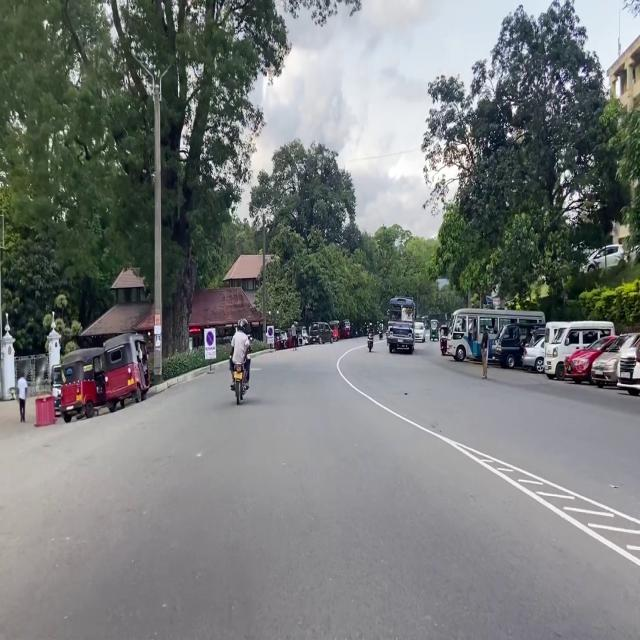bus: (447, 308, 545, 361), (387, 297, 415, 354)
car: (591, 334, 640, 388), (564, 335, 617, 383), (617, 335, 640, 396), (522, 337, 545, 373), (51, 365, 63, 415), (309, 323, 333, 344), (414, 321, 425, 343), (415, 321, 425, 342)
motorcycle: (234, 364, 248, 405), (368, 331, 373, 352), (379, 329, 382, 340)
person: (230, 318, 250, 385), (17, 372, 27, 422), (482, 328, 488, 378), (291, 322, 296, 349), (368, 322, 374, 338), (379, 320, 383, 334)
three wheeler: (104, 334, 149, 411), (60, 348, 105, 421), (528, 327, 545, 345), (440, 325, 448, 356), (296, 327, 308, 345), (330, 321, 340, 340), (341, 319, 350, 338), (430, 319, 438, 340), (275, 329, 282, 350), (280, 331, 288, 349), (287, 328, 292, 348)
van: (545, 322, 615, 379), (492, 324, 534, 369), (544, 322, 567, 364)
